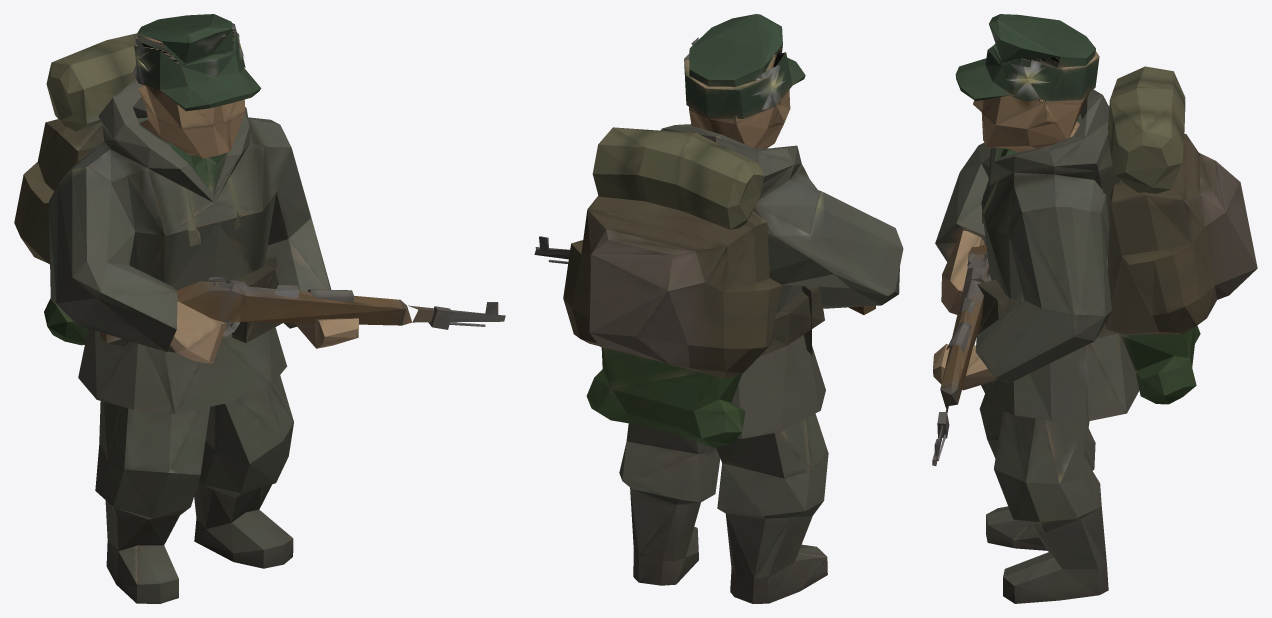
The model's file is bulge_german_mountain_1.glb.
3 renders of one model, left to right at view 1: azimuth 30°, elevation 25°; view 2: azimuth 150°, elevation 25°; view 3: azimuth 270°, elevation 25°, orthographic. The views are drawn at different scales.
Visible parts, largest first — view 1: geometry_0; view 2: geometry_0; view 3: geometry_0.
Part boxes in pixels (bbox=[...]): geometry_0: bbox=[14, 14, 505, 603]; geometry_0: bbox=[534, 14, 903, 603]; geometry_0: bbox=[932, 14, 1257, 603].
Bounding box in the file's own units: 0.2483 × 0.324 × 0.1767.
1 material, 1 textured.
